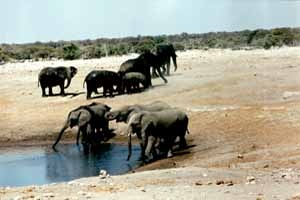elephant: (158, 136, 221, 191), (81, 125, 143, 173), (143, 72, 191, 115), (57, 81, 99, 112), (105, 85, 147, 113), (164, 60, 190, 93)
